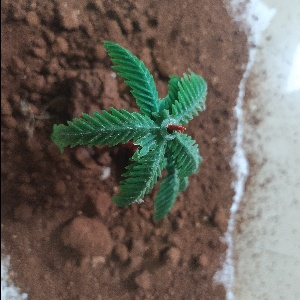plant: (45, 39, 204, 219)
